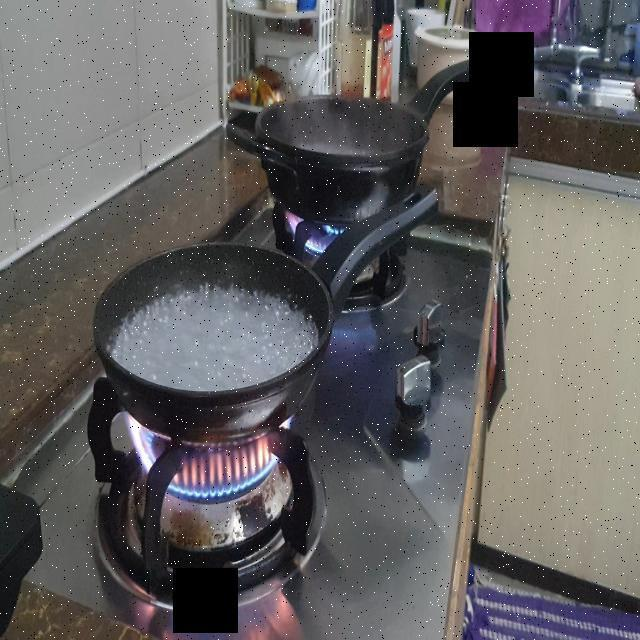Flame: (129, 422, 311, 506), (276, 206, 370, 263)
Pan: (86, 238, 345, 438), (239, 91, 438, 225)
